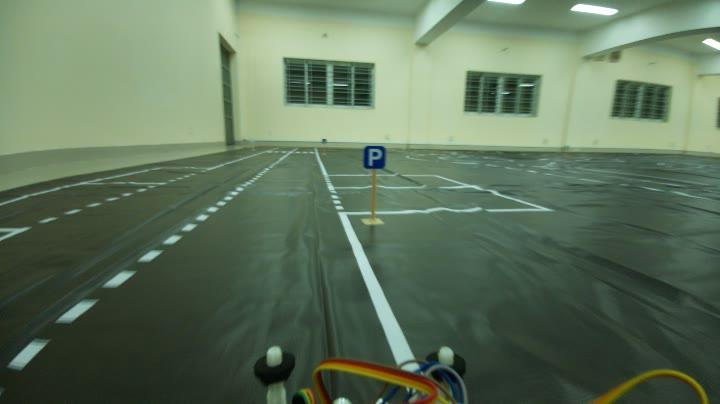parking: (361, 146, 390, 172)
